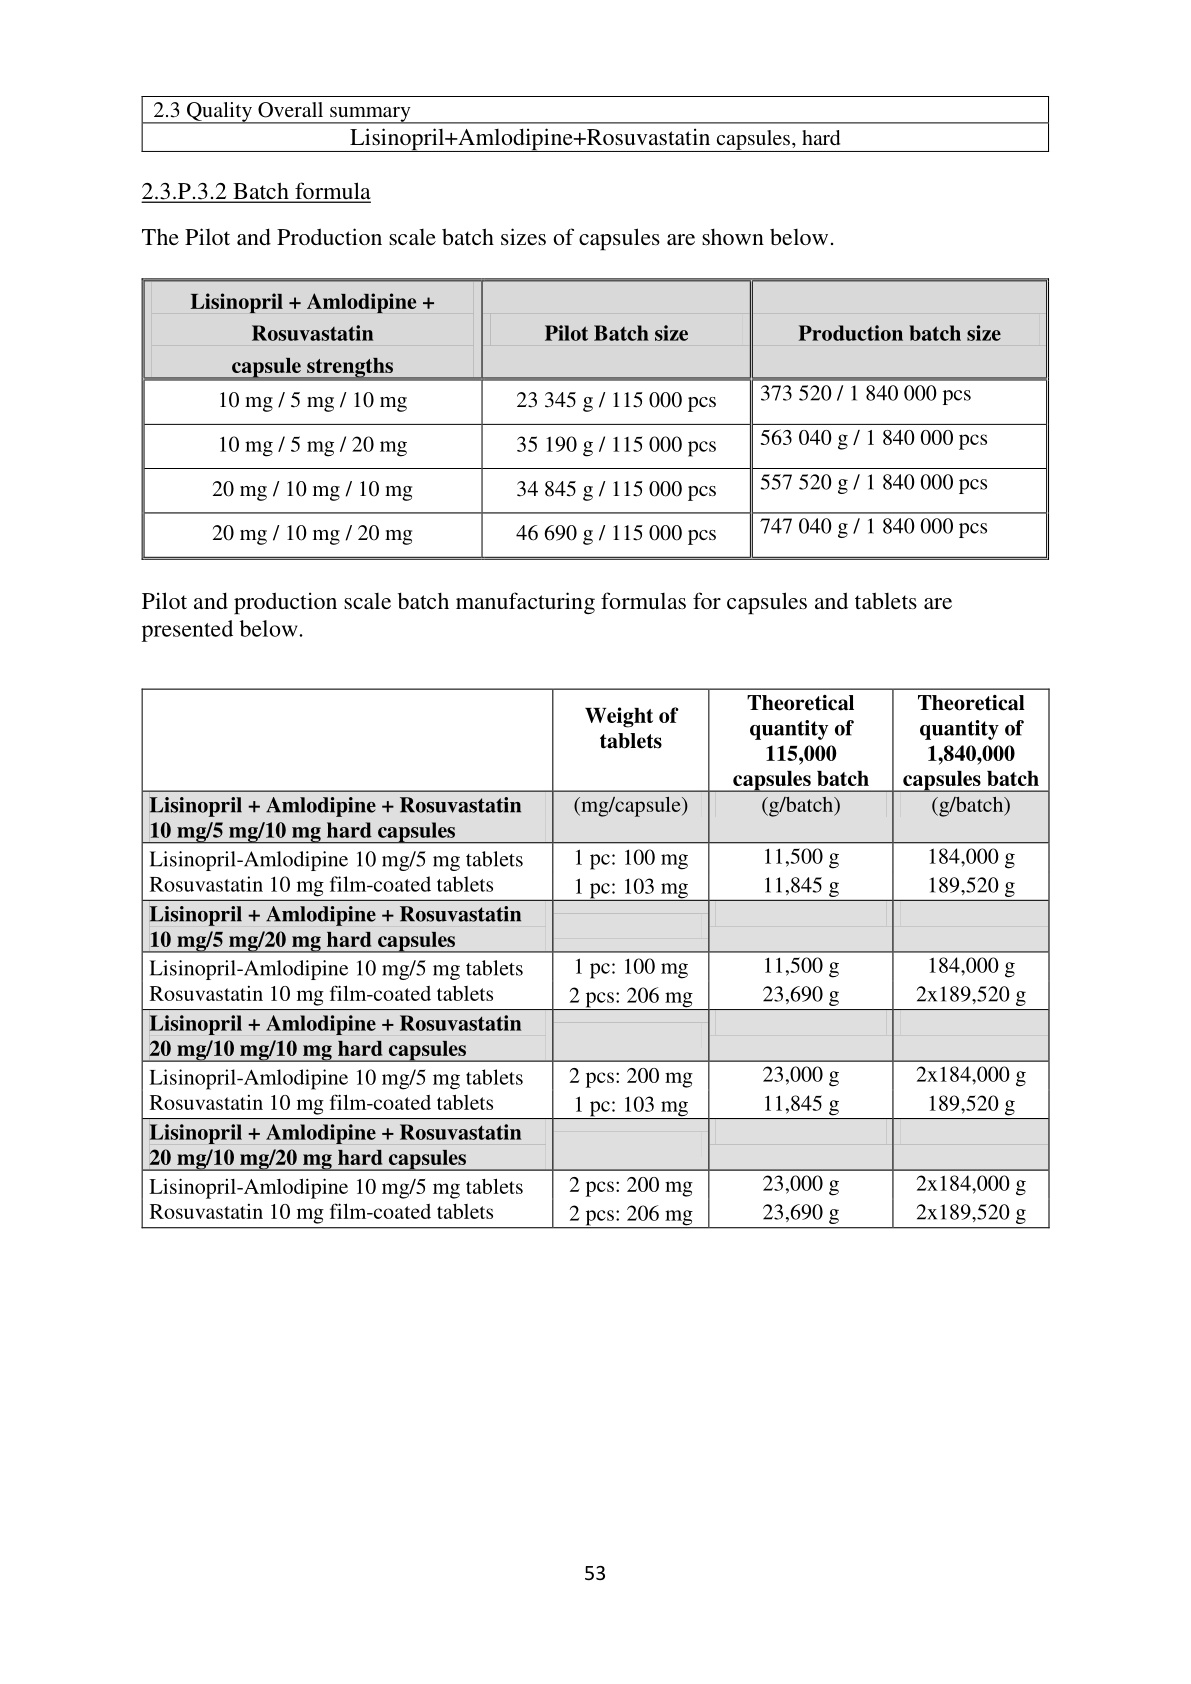full_lined: (140, 687, 1051, 1229), (140, 278, 1049, 560), (140, 95, 1051, 153)
